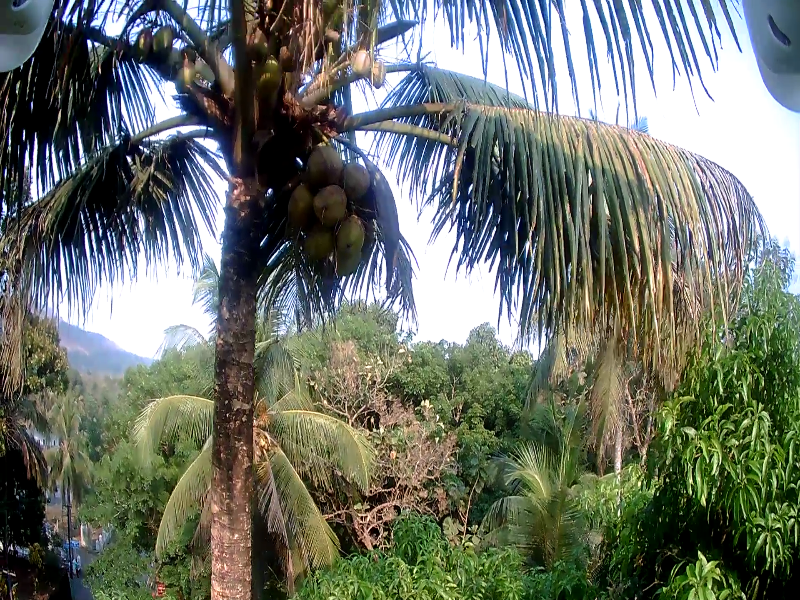coconut: (305, 143, 341, 176), (293, 226, 324, 257), (341, 155, 366, 193), (320, 180, 344, 219), (285, 187, 311, 215), (344, 44, 367, 75), (176, 66, 201, 93), (365, 58, 386, 90), (154, 21, 171, 59), (338, 214, 356, 245), (260, 60, 284, 80), (339, 243, 356, 271), (135, 30, 152, 53)
